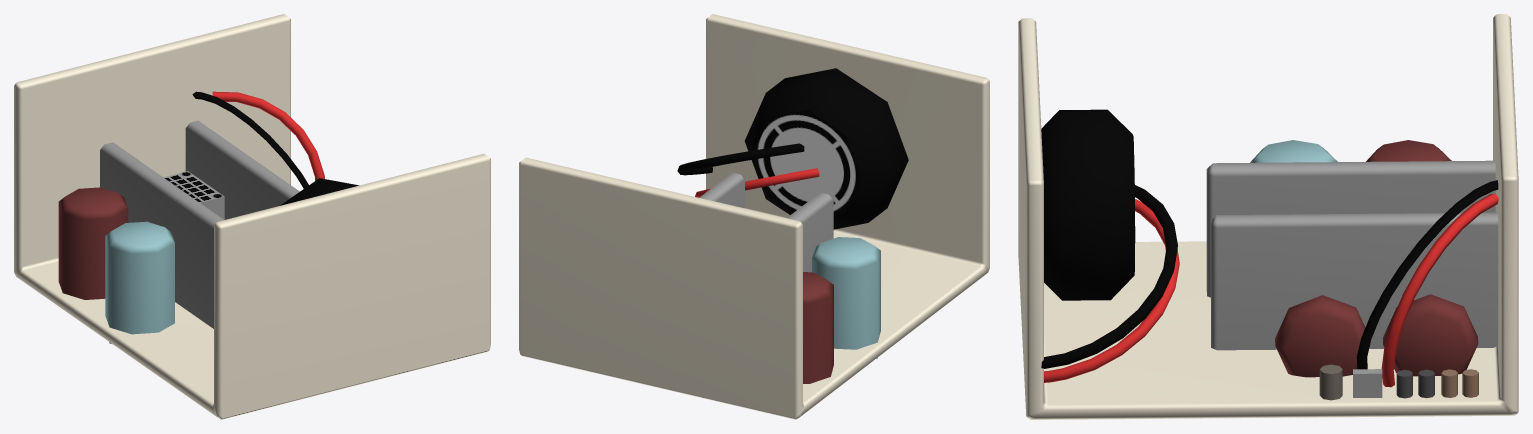
The model's file is SM_powerSupply.fbx.
The picture shows the model from 3 angles, left to right: view 1: azimuth 30°, elevation 25°; view 2: azimuth 150°, elevation 25°; view 3: azimuth 270°, elevation 25°; orthographic projection. The views are drawn at different scales.
Visible parts, largest first — view 1: SM_powerSupply; view 2: SM_powerSupply; view 3: SM_powerSupply.
Boxes of the visible parts, <box> form: SM_powerSupply: <box>14,14,490,419</box>; SM_powerSupply: <box>519,14,989,419</box>; SM_powerSupply: <box>1018,14,1518,419</box>.
Bounding box in the file's own units: 0.3153 × 0.2259 × 0.3899.
